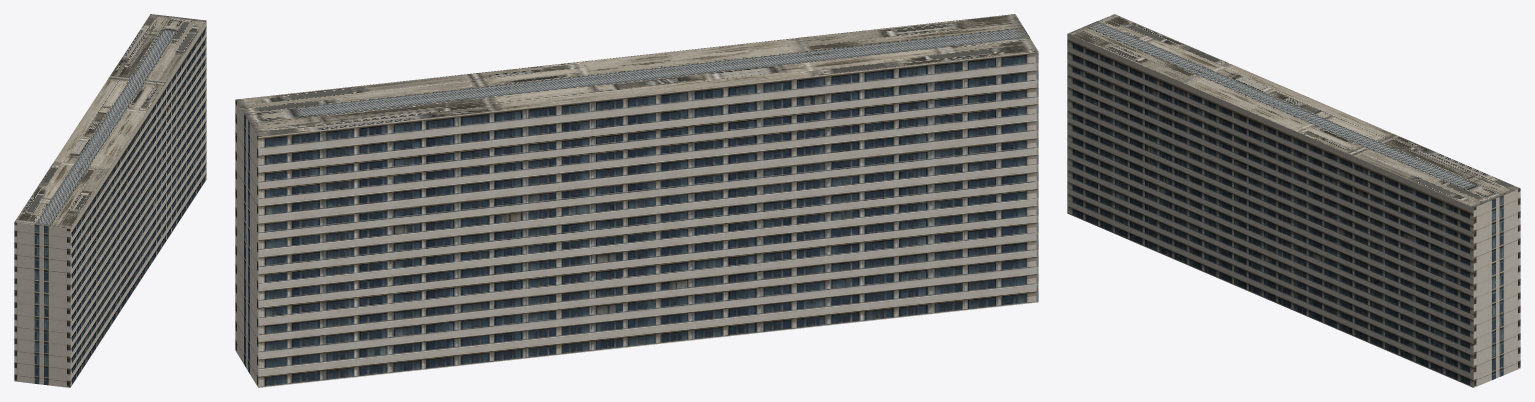
File: building.glb
The picture shows the model from 3 angles, left to right: view 1: azimuth 30°, elevation 25°; view 2: azimuth 150°, elevation 25°; view 3: azimuth 270°, elevation 25°; orthographic projection. The views are drawn at different scales.
Parts seen in each view (by area): view 1: Zhemchuzhina w51847429; view 2: Zhemchuzhina w51847429; view 3: Zhemchuzhina w51847429.
Part boxes in pixels (left/top/right/bottom): Zhemchuzhina w51847429: left=14, top=14, right=206, bottom=387; Zhemchuzhina w51847429: left=235, top=14, right=1038, bottom=387; Zhemchuzhina w51847429: left=1067, top=14, right=1520, bottom=387.
Size of the model in its own units: 118 by 51 by 116.
Materials: 1 (1 with a texture image).
